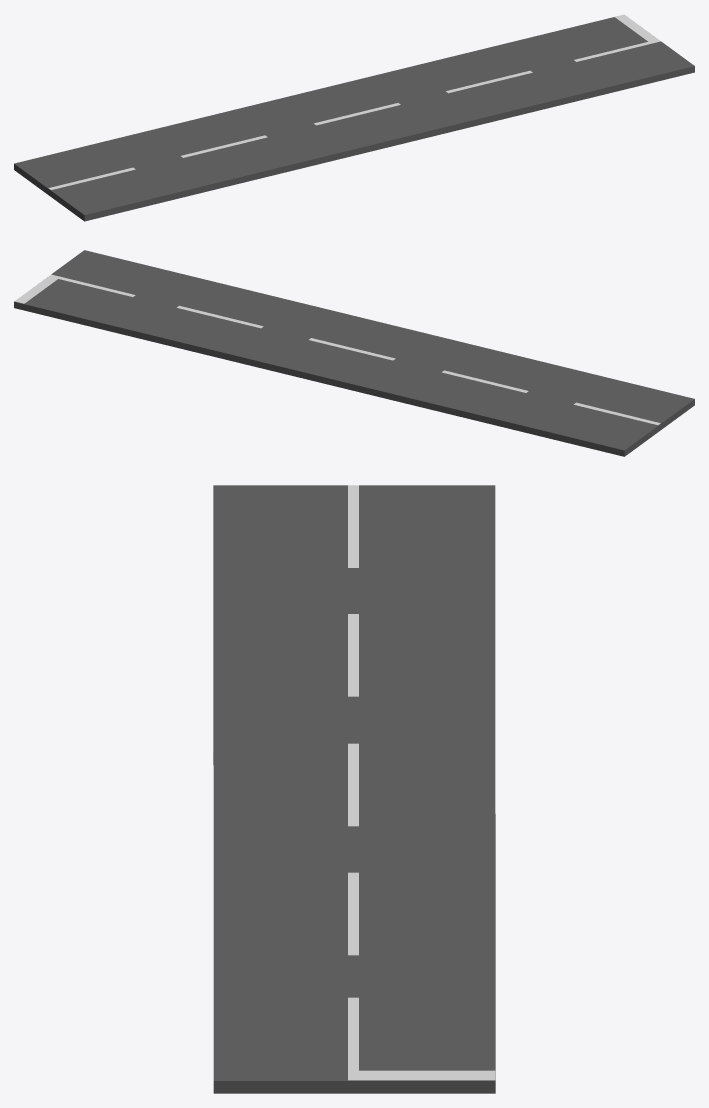
File: road_1_2.dae
The picture shows the model from 3 angles, top to bottom: view 1: azimuth 30°, elevation 25°; view 2: azimuth 150°, elevation 25°; view 3: azimuth 270°, elevation 25°; orthographic projection. The views are drawn at different scales.
Parts seen in each view (by area): view 1: road_base_long, road_line_2; view 2: road_base_long, road_line_2; view 3: road_base_long, road_line_2.
Boxes of the visible parts, box(x1,y1,x2,y2) form: road_base_long: box(14, 17, 694, 221); road_line_2: box(48, 14, 660, 189); road_base_long: box(14, 250, 694, 456); road_line_2: box(14, 274, 660, 424); road_base_long: box(213, 485, 495, 1093); road_line_2: box(348, 485, 495, 1080).
Bounding box in the file's own units: 50 × 10.02 × 0.5183.
2 materials, 2 textured.
